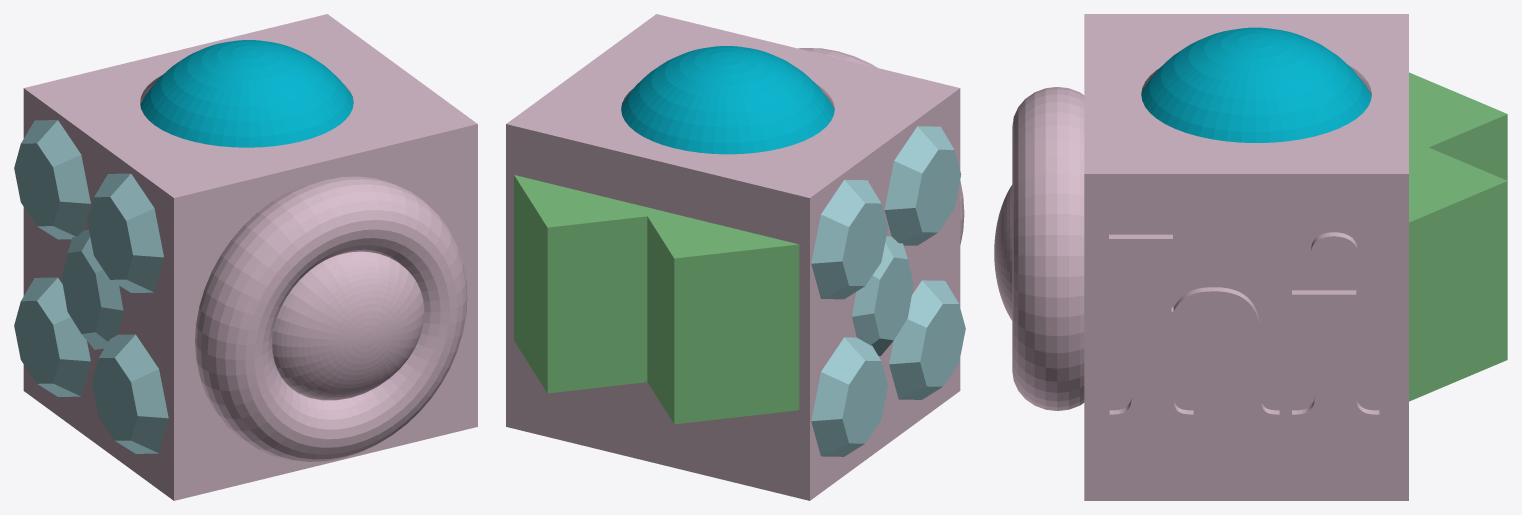
Rendered from charlotte.g monday class rosequarts pls.glb.
The picture shows the model from 3 angles, left to right: view 1: azimuth 30°, elevation 25°; view 2: azimuth 150°, elevation 25°; view 3: azimuth 270°, elevation 25°; orthographic projection. The views are drawn at different scales.
Visible parts, largest first — view 1: Mesh_Mesh_head_geo.001_lambert2SG.001; view 2: Mesh_Mesh_head_geo.001_lambert2SG.001; view 3: Mesh_Mesh_head_geo.001_lambert2SG.001.
Part boxes in pixels (<box>): Mesh_Mesh_head_geo.001_lambert2SG.001: <box>14,14,477,500</box>; Mesh_Mesh_head_geo.001_lambert2SG.001: <box>506,14,965,500</box>; Mesh_Mesh_head_geo.001_lambert2SG.001: <box>994,14,1507,500</box>.
Bounding box in the file's own units: 0.042 × 0.0427 × 0.052.
